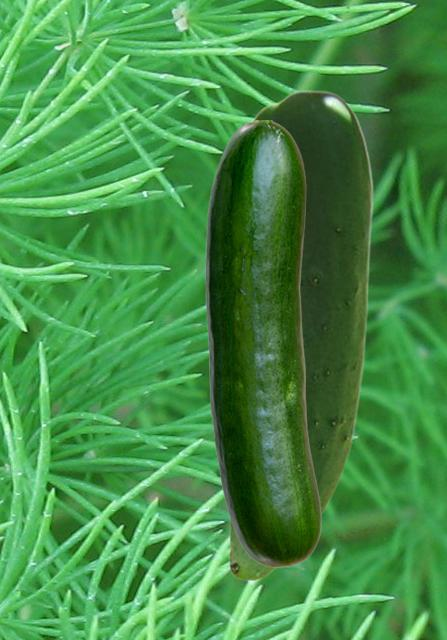cucumber: (228, 90, 372, 580), (205, 120, 320, 566)
